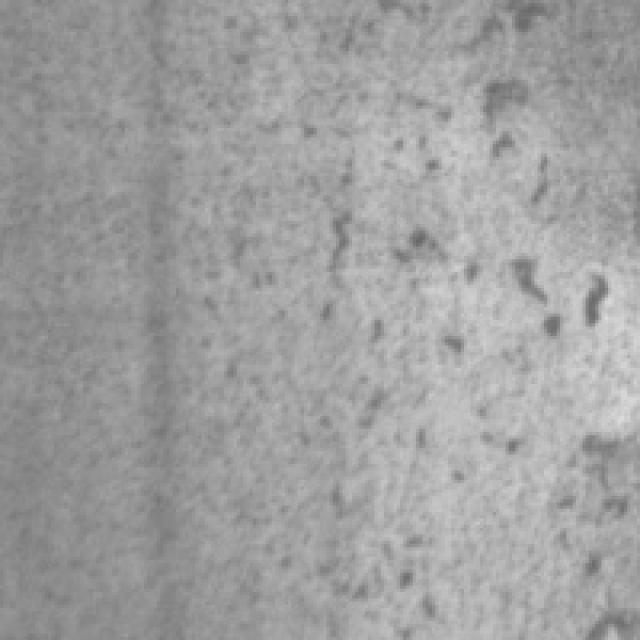pitted_surface: (86, 0, 570, 611)
